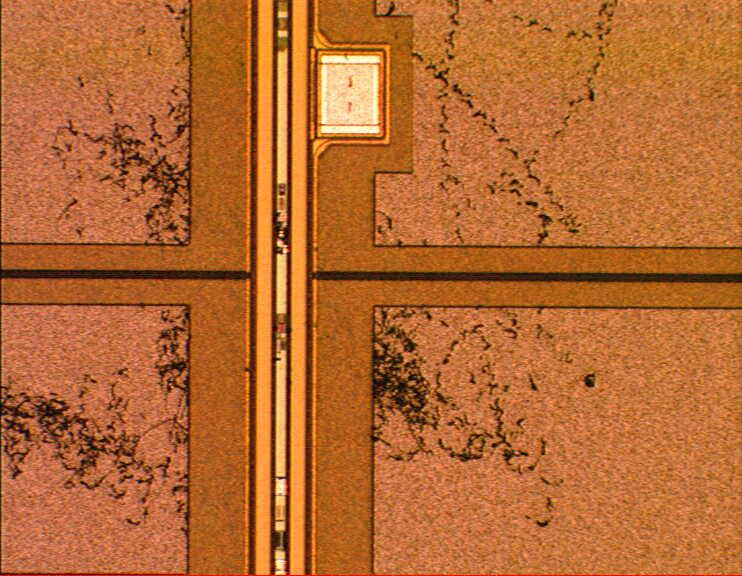SCRATCH: (1, 1, 626, 539)
